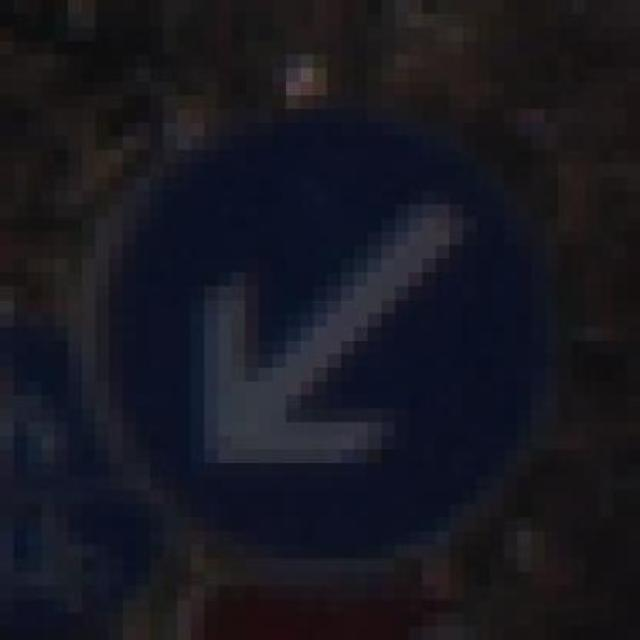Keep-Left: (82, 95, 572, 572)
